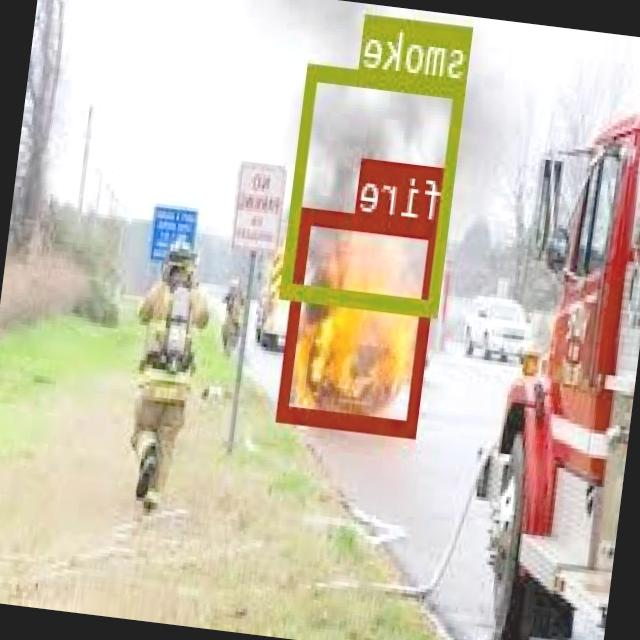fire: (280, 207, 442, 435)
smoke: (282, 61, 468, 314)
